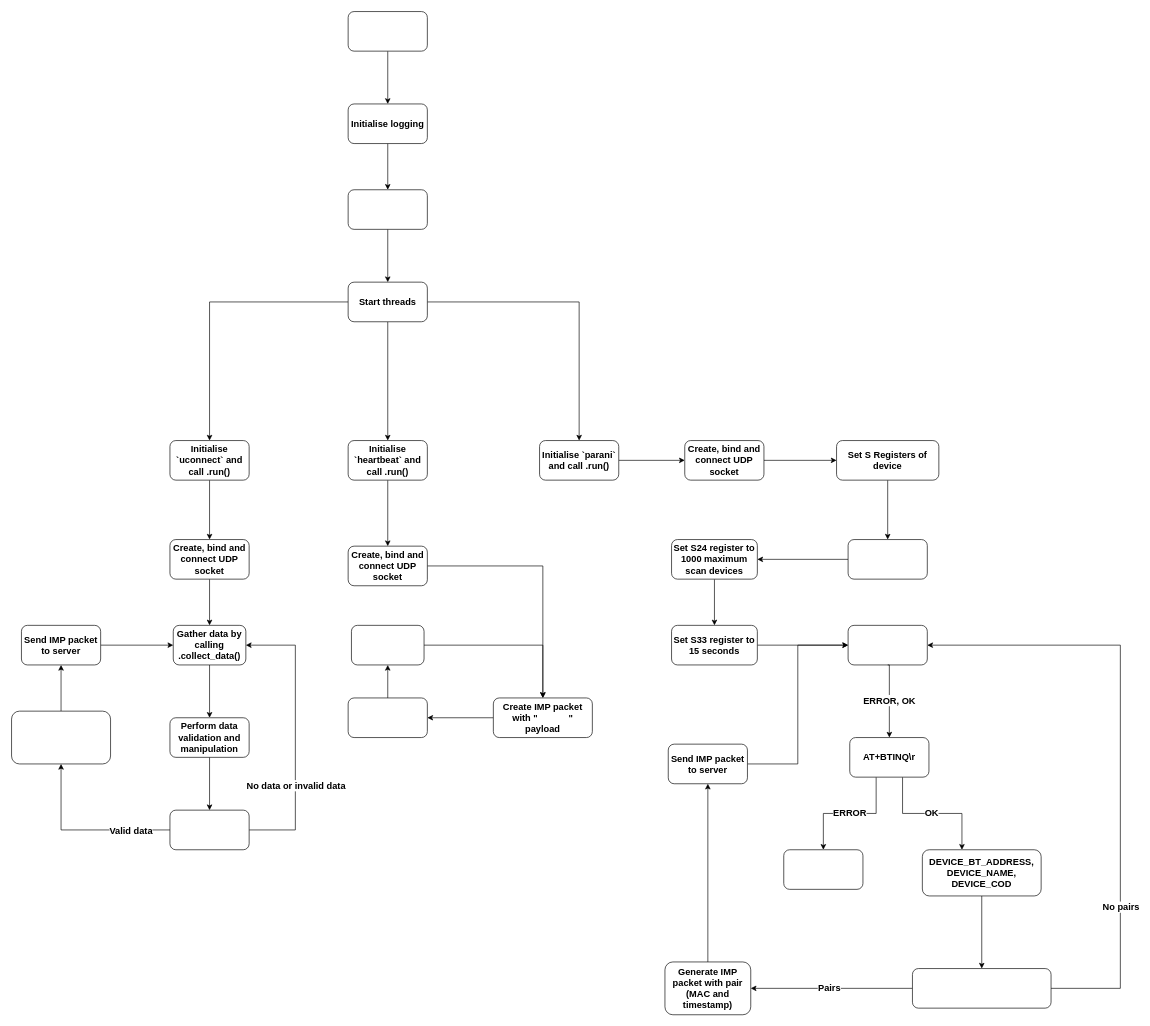
Some shapes in this 1150 by 1026 pixel diagram are drawn without their labels. The shapes that lost their labels are listed below. From the top down, each one's centre as x and y in pixels, then its label:
At (x=387, y=31): "ENTRYPOINT".
At (x=387, y=209): "Read configuration from package_config.ini".
At (x=887, y=559): "Set S4 register to 0".
At (x=387, y=645): "Wait on thread for 15 seconds".
At (x=887, y=645): "AT+BTCANCEL\r".
At (x=61, y=737): "Generate IMP packet with valid data (MAC and timestamp)".
At (x=387, y=717): "Send IMP heartbeat to server".
At (x=209, y=829): "Check if data valid".
At (x=823, y=869): "Operation Failure".
At (x=981, y=988): "Filter DEVICE_ BT_ADDRESS and pair timestamp".
